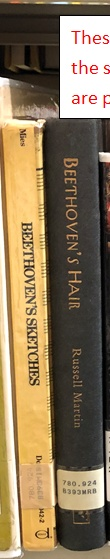call_number: (58, 470, 104, 509), (18, 463, 55, 509)
